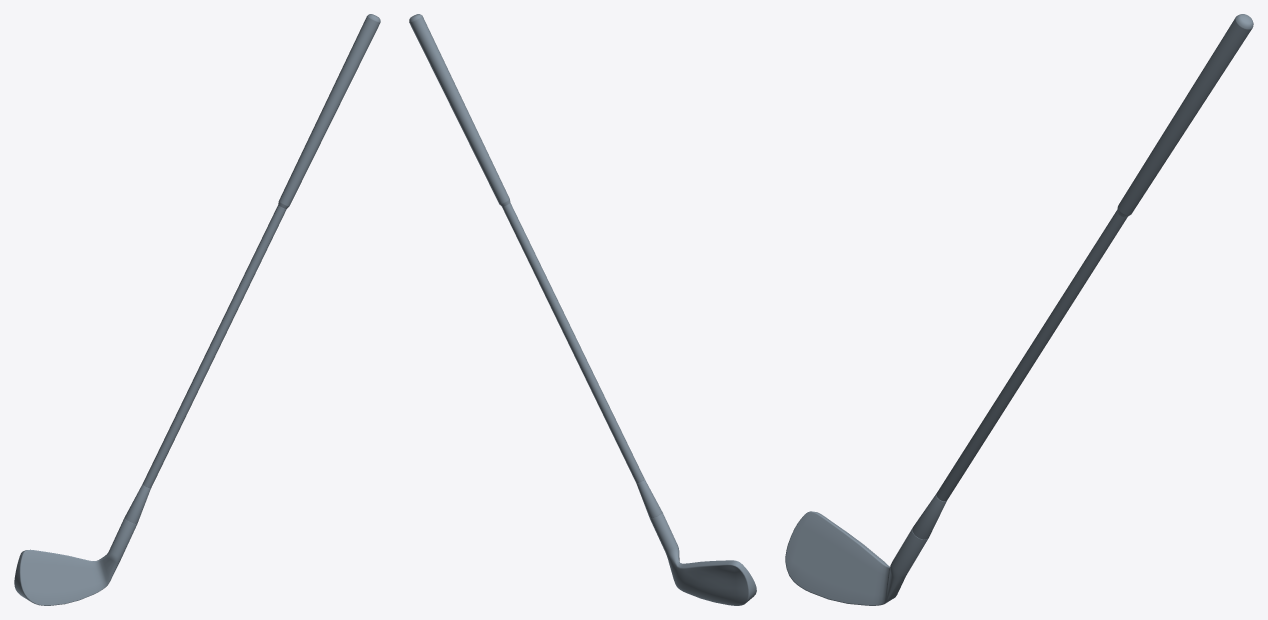
Rendered from golfvr-iron.glb.
3 renders of one model, left to right at view 1: azimuth 30°, elevation 25°; view 2: azimuth 150°, elevation 25°; view 3: azimuth 330°, elevation 25°, orthographic. The views are drawn at different scales.
Visible parts, largest first — view 1: golf clubs; view 2: golf clubs; view 3: golf clubs.
Part boxes in pixels (x1,y1,x2,y2): golf clubs: (14, 14, 380, 605); golf clubs: (409, 14, 756, 605); golf clubs: (785, 14, 1253, 605).
Bounding box in the file's own units: 2.89 × 4 × 0.2539.
